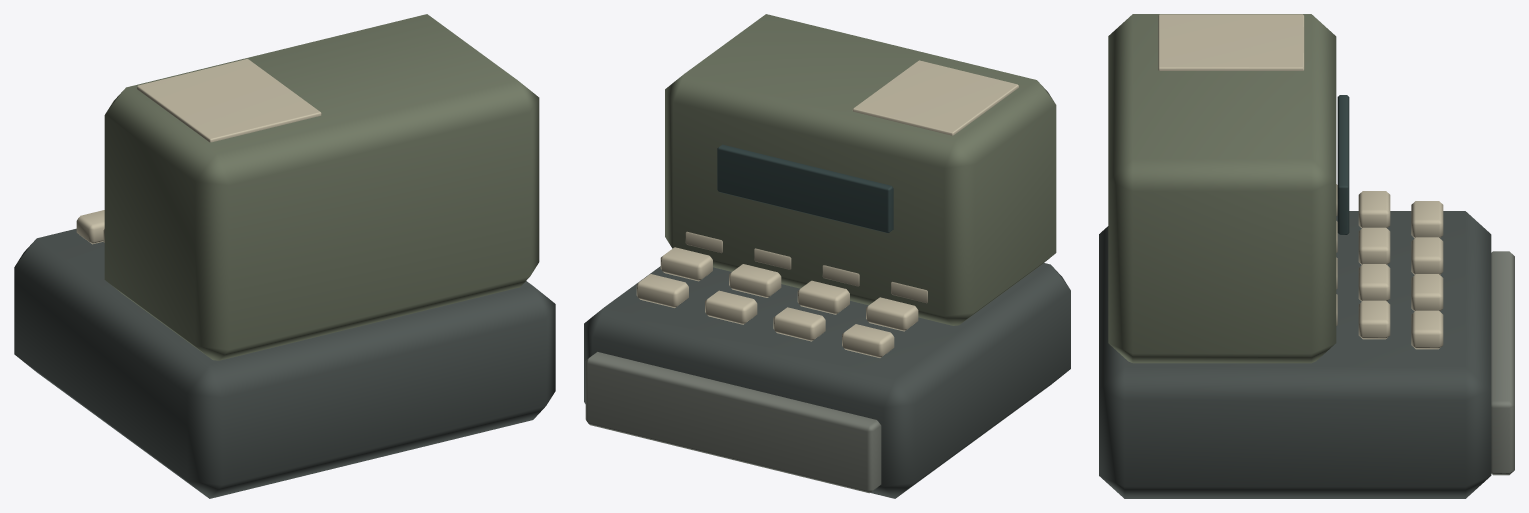
The model's file is CashRegister62.fbx.
3 views of the same model, side by side, from view 1: azimuth 30°, elevation 25°; view 2: azimuth 150°, elevation 25°; view 3: azimuth 270°, elevation 25° (orthographic). The views are drawn at different scales.
Visible parts, largest first — view 1: CashRegister62; view 2: CashRegister62; view 3: CashRegister62.
Part boxes in pixels (bbox=[...]): CashRegister62: bbox=[14, 14, 555, 498]; CashRegister62: bbox=[584, 14, 1070, 498]; CashRegister62: bbox=[1099, 14, 1514, 498].
Size of the model in its own units: 46 by 40.9 by 45.6.
